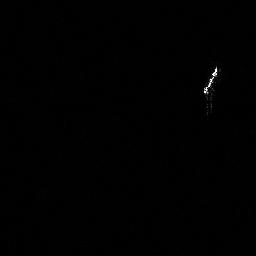ship: (199, 61, 222, 101)
